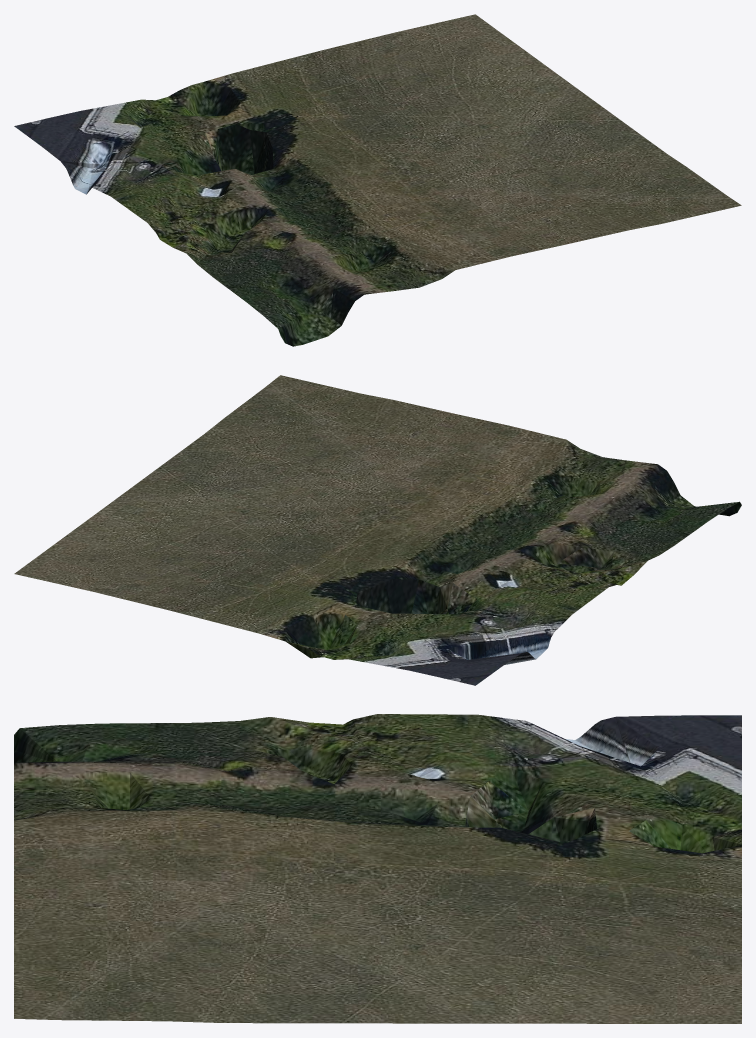
File: map_15_8183_13781.dae
The picture shows the model from 3 angles, top to bottom: view 1: azimuth 30°, elevation 25°; view 2: azimuth 150°, elevation 25°; view 3: azimuth 270°, elevation 25°; orthographic projection. The views are drawn at different scales.
Visible parts, largest first — view 1: Ter0; view 2: Ter0; view 3: Ter0.
Part boxes in pixels (x1=…): Ter0: x1=14, y1=14, x2=741, y2=346; Ter0: x1=14, y1=375, x2=741, y2=685; Ter0: x1=14, y1=714, x2=741, y2=1023.
Size of the model in its own units: 63.87 by 63.88 by 7.71.
2 materials, 2 textured.
